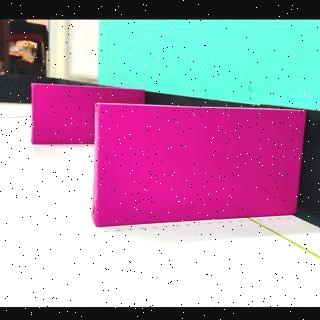xparking: (97, 105, 306, 227), (35, 88, 93, 146)
